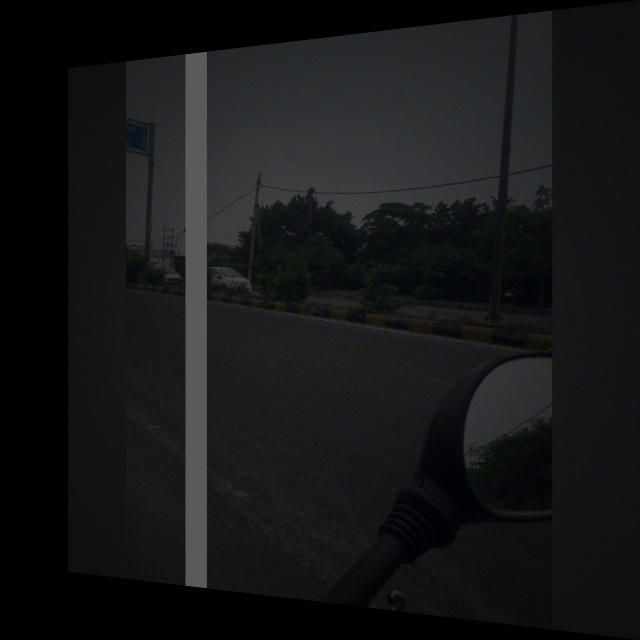Gap_in_Median: (182, 211, 202, 237)
